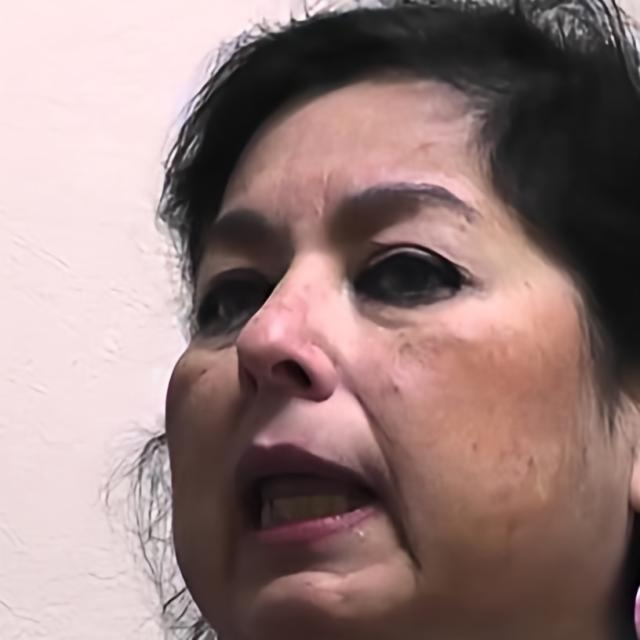anger: (160, 91, 634, 640)
